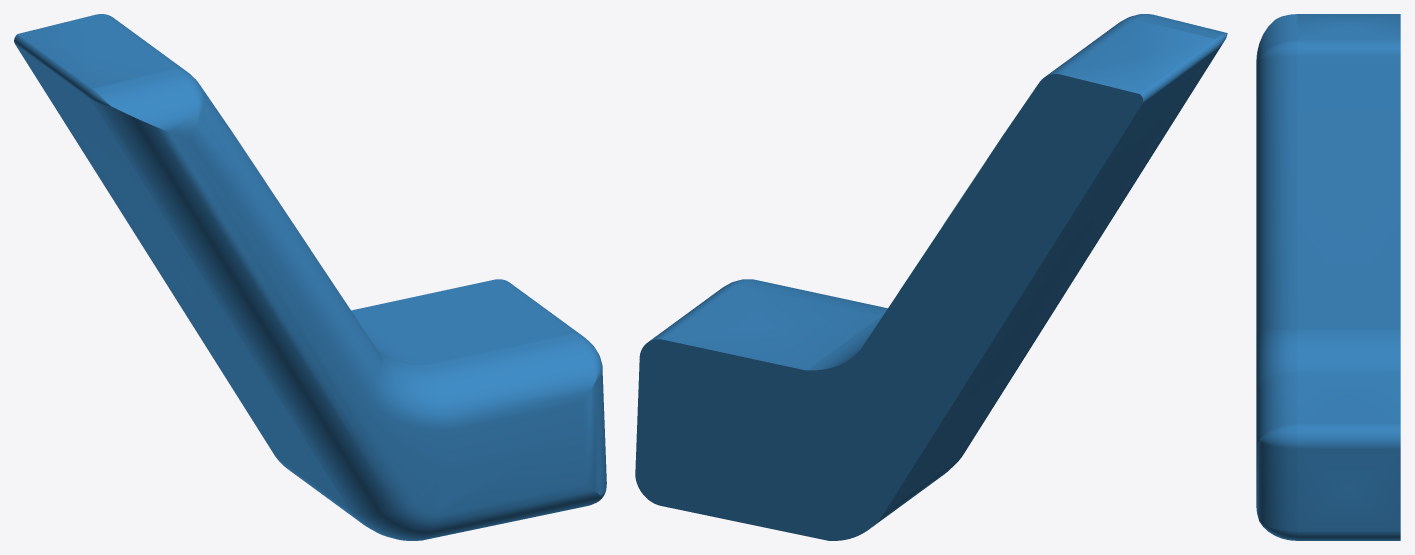
File: stick-2.gltf
The picture shows the model from 3 angles, left to right: view 1: azimuth 30°, elevation 25°; view 2: azimuth 150°, elevation 25°; view 3: azimuth 270°, elevation 25°; orthographic projection. The views are drawn at different scales.
Visible parts, largest first — view 1: unnamed_n3d; view 2: unnamed_n3d; view 3: unnamed_n3d.
Boxes of the visible parts, x1,y1,x2,y2 form: unnamed_n3d: (14, 14, 606, 540); unnamed_n3d: (635, 14, 1227, 540); unnamed_n3d: (1256, 14, 1400, 540).
Size of the model in its own units: 0.0516 by 0.0514 by 0.0185.
